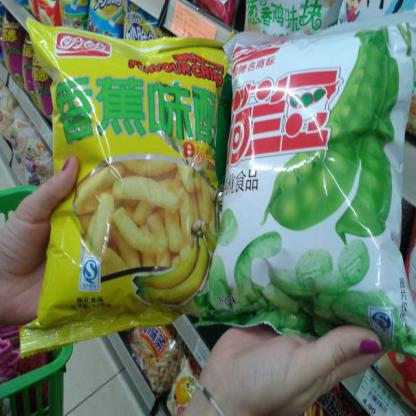potatochip: (18, 10, 242, 332)
